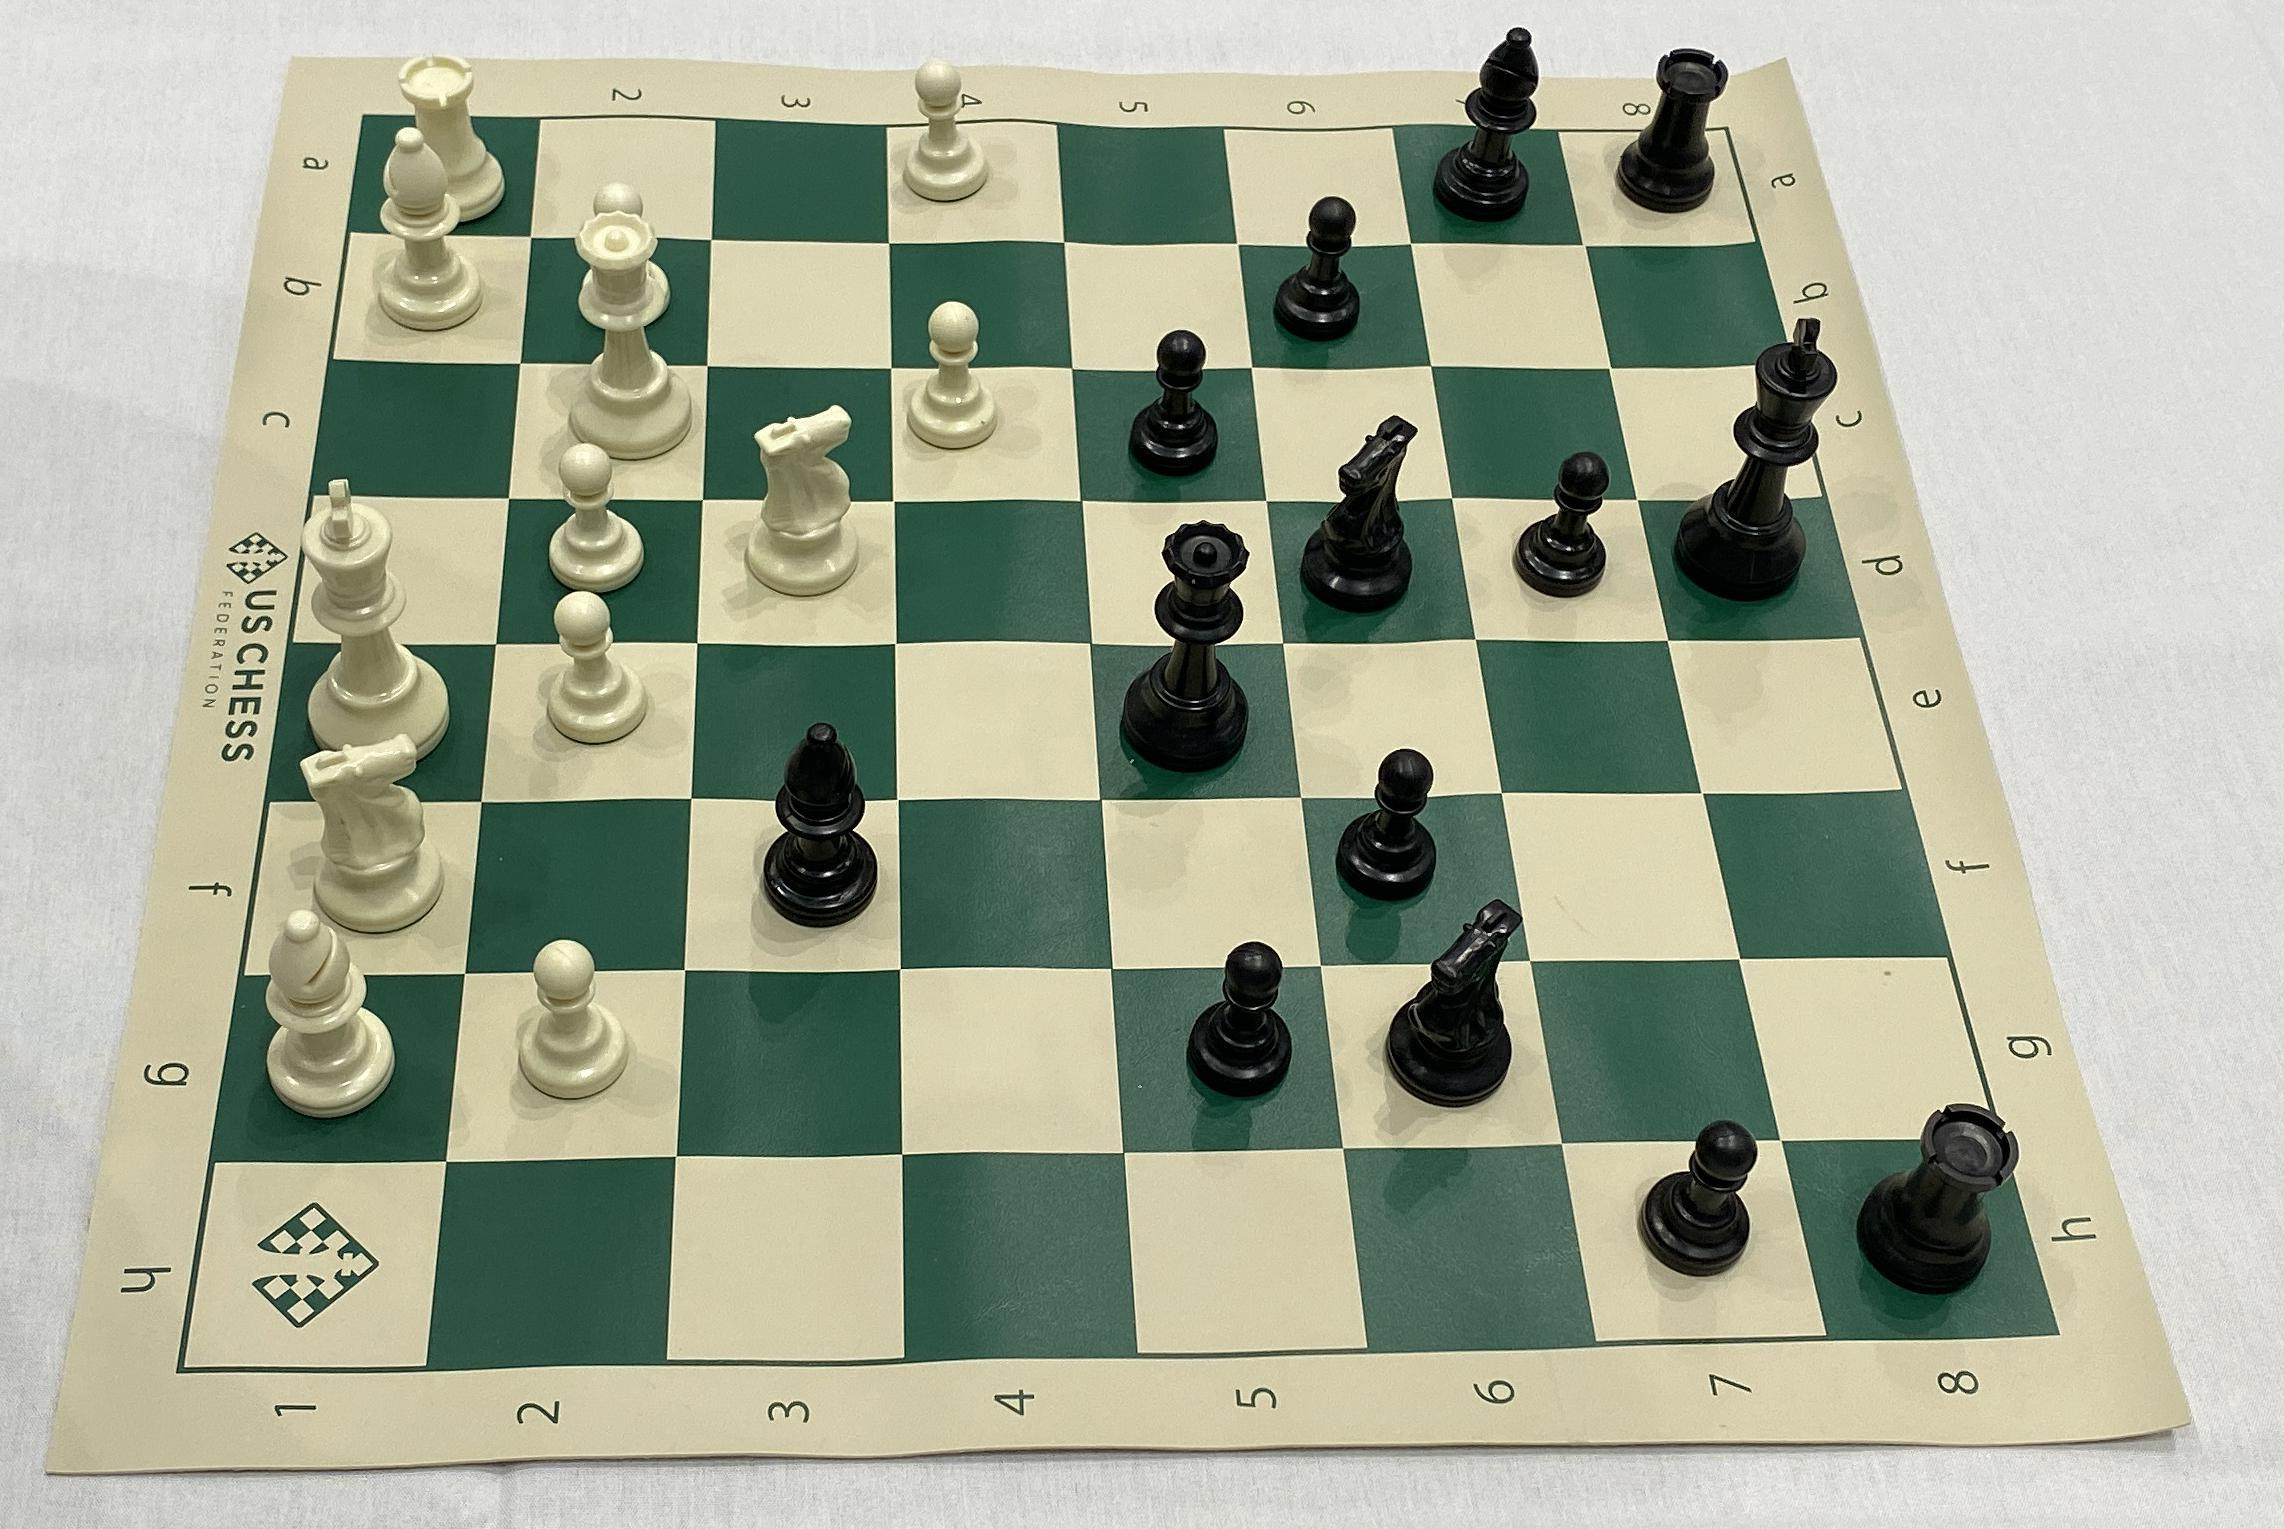black-bishop: (747, 710, 884, 935), (1433, 15, 1554, 232)
black-king: (1663, 311, 1844, 609)
black-knight: (1382, 886, 1539, 1121), (1296, 399, 1419, 621)
black-pawn: (1627, 1104, 1772, 1292), (1174, 927, 1303, 1101), (1498, 437, 1619, 613), (1327, 744, 1452, 908), (1117, 317, 1226, 495), (1262, 188, 1365, 350)
black-queen: (1116, 502, 1264, 785)
black-rook: (1846, 1090, 2026, 1305), (1610, 34, 1740, 229)
white-bishop: (252, 901, 406, 1116), (362, 123, 495, 338)
white-king: (292, 462, 457, 764)
white-knight: (288, 727, 454, 944), (728, 399, 867, 611)
white-pawn: (510, 932, 640, 1109), (529, 589, 653, 758), (885, 55, 1000, 210), (539, 439, 646, 601), (568, 177, 681, 329), (902, 300, 1006, 462)
white-queen: (541, 213, 706, 461)
white-rook: (387, 32, 517, 229)
